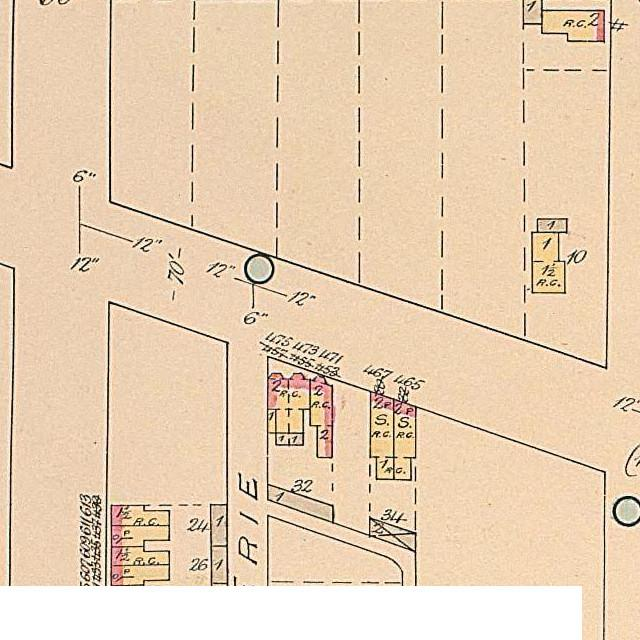building-footprints: (267, 373, 310, 433), (267, 484, 333, 523), (370, 392, 394, 480), (531, 232, 564, 293), (541, 10, 604, 41), (309, 374, 332, 458), (394, 399, 416, 480), (369, 518, 415, 553), (111, 564, 169, 586), (111, 505, 169, 526), (111, 526, 169, 547), (111, 547, 168, 566), (210, 505, 227, 546), (210, 546, 227, 584), (523, 0, 541, 24), (537, 219, 566, 232), (276, 433, 303, 445), (267, 410, 276, 433), (211, 583, 227, 586)
